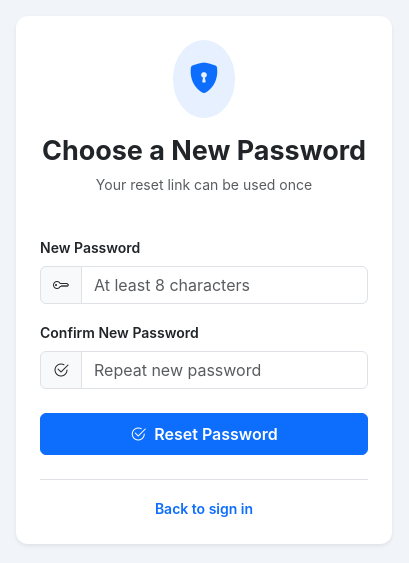
Test: Password reset pages › reset password submits the token and new password
Type "NewPassword123!" into the password field labelled "New Password".
click(224, 285); type("NewPassword123!")  # box [81,266,368,304]
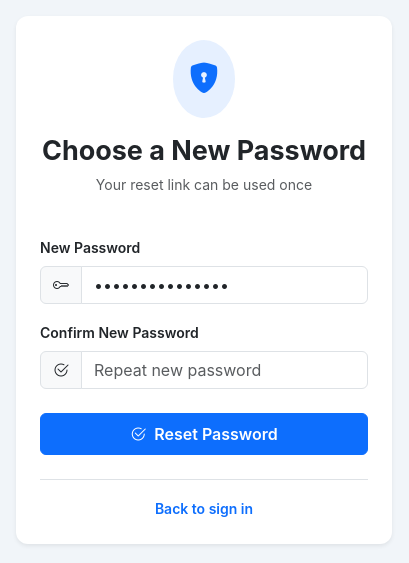
Type "NewPassword123!" into the password field labelled "Confirm New Password".
click(224, 370); type("NewPassword123!")  # box [81,351,368,389]
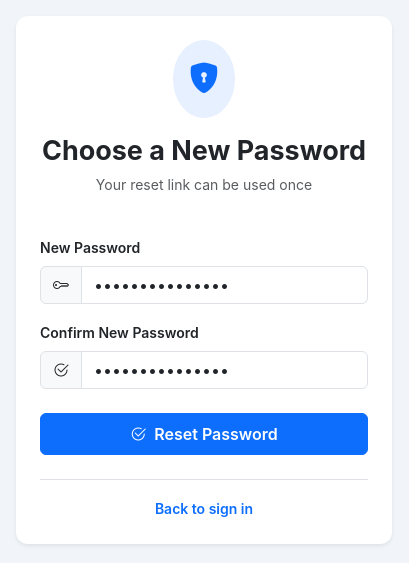
Click the button "Reset Password".
click(204, 434)  # box [40,413,368,455]
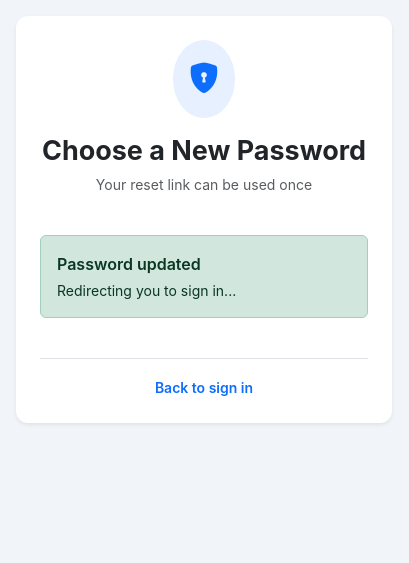
Result: the text "Password updated" is shown at [57,254,201,274]
